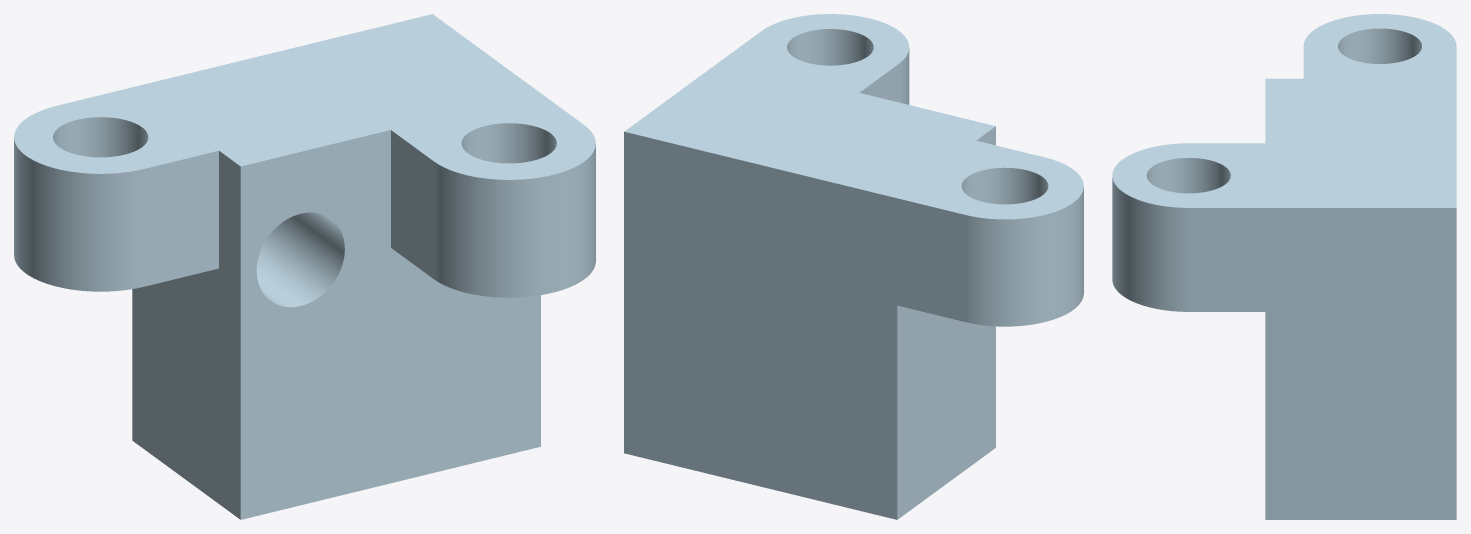
The picture shows the model from 3 angles, left to right: view 1: azimuth 30°, elevation 25°; view 2: azimuth 150°, elevation 25°; view 3: azimuth 270°, elevation 25°; orthographic projection. The views are drawn at different scales.
Visible parts, largest first — view 1: mesh528, mesh539, mesh535, mesh532, mesh538, mesh537, mesh527, mesh531, mesh534, mesh541; view 2: mesh536, mesh539, mesh535, mesh538, mesh541, mesh534, mesh531, mesh532; view 3: mesh530, mesh539, mesh532, mesh541, mesh534.
Part boxes in pixels (x1,y1,x2,y2): mesh528: (240,130,540,519); mesh539: (14,14,595,179); mesh535: (132,151,240,519); mesh532: (434,144,595,297); mesh538: (14,139,143,291); mesh537: (144,151,218,286); mesh527: (256,212,344,307); mesh531: (391,130,434,278); mesh534: (461,123,556,163); mesh541: (53,117,148,157); mesh536: (624,131,965,519); mesh539: (624,14,1083,219); mesh535: (897,126,995,519); mesh538: (965,188,1083,326); mesh541: (961,167,1048,204); mesh534: (787,29,873,65); mesh531: (859,64,898,102); mesh532: (898,48,909,104); mesh530: (1188,208,1456,519); mesh539: (1112,14,1456,207); mesh532: (1112,178,1188,311); mesh541: (1338,28,1421,63); mesh534: (1146,158,1230,193).
Bounding box in the file's own units: 0.012 × 0.009 × 0.009.
